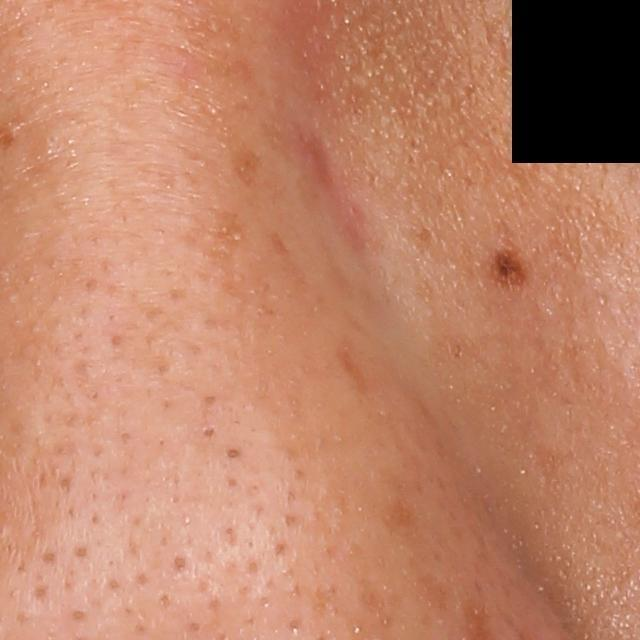comedo: (222, 441, 250, 465), (196, 421, 224, 445)
melasma: (235, 132, 262, 190)
nevus: (487, 239, 530, 301)
